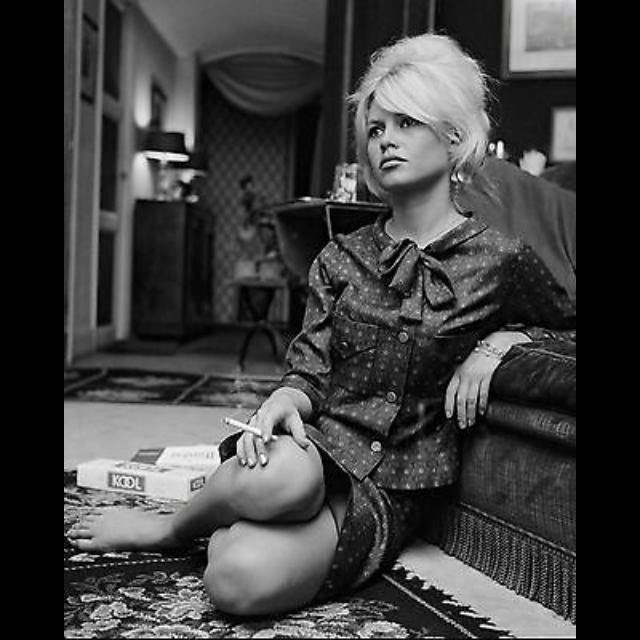rokok: (230, 416, 264, 438)
